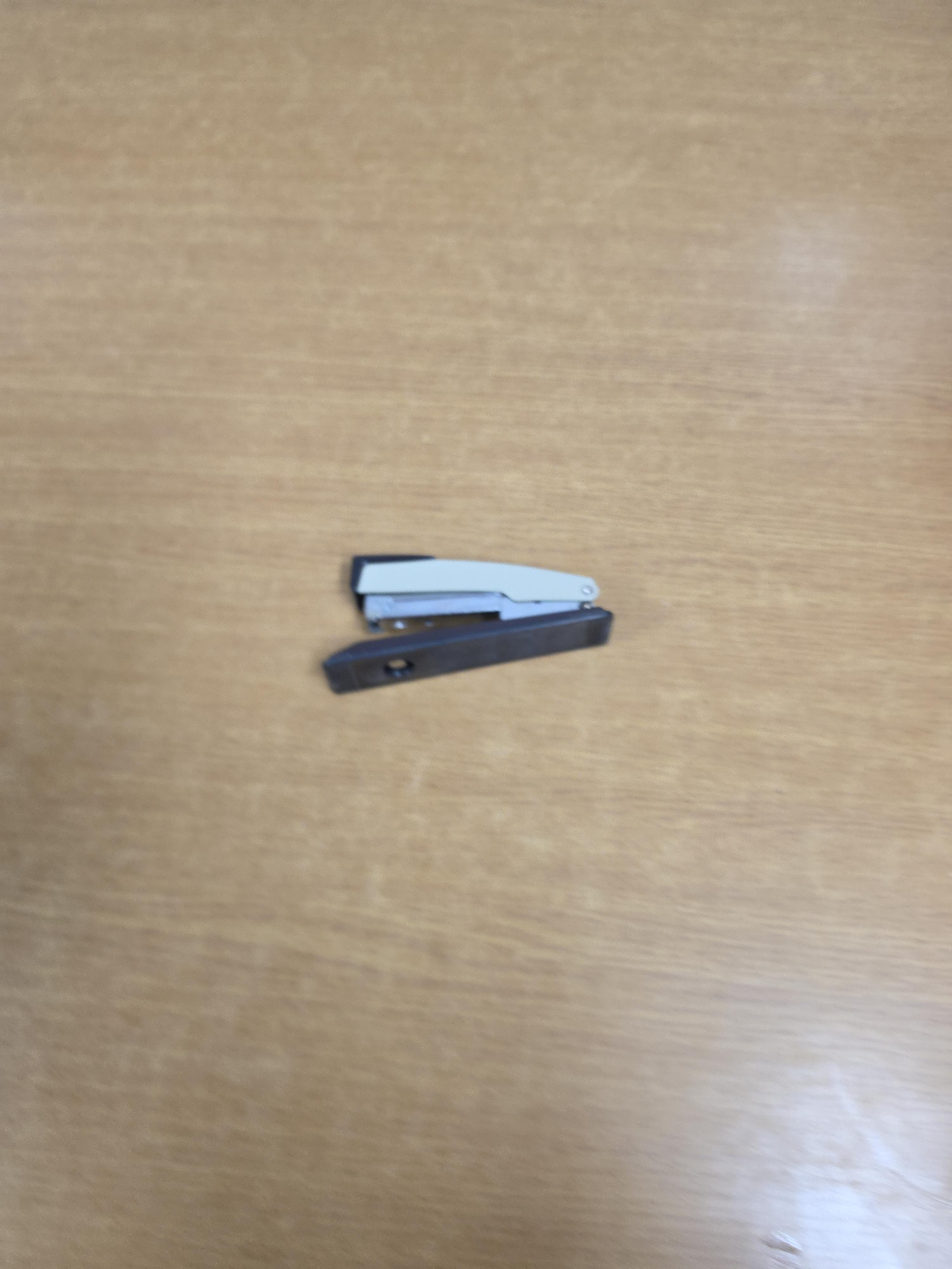stapler: (322, 553, 614, 694)
